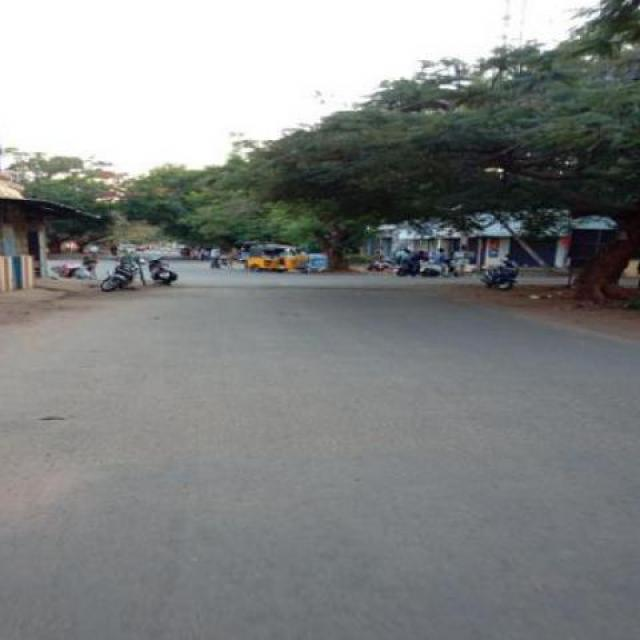Unmarked Bump: (148, 280, 432, 296)
